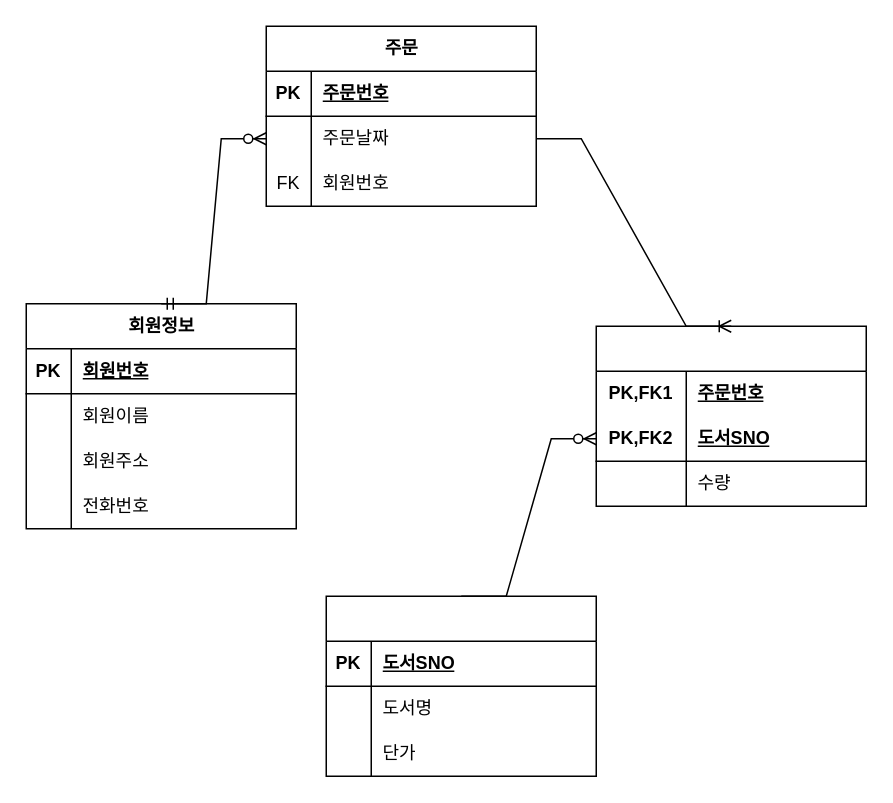
The diagram is 893 pixels wide and 803 high, and some of its shapes have lost their labels. The box of each missing label's shape, as (x1, y1, x2, y2) in pixels:
도서정보: (325, 595, 596, 776)
주문상세: (595, 325, 866, 506)
